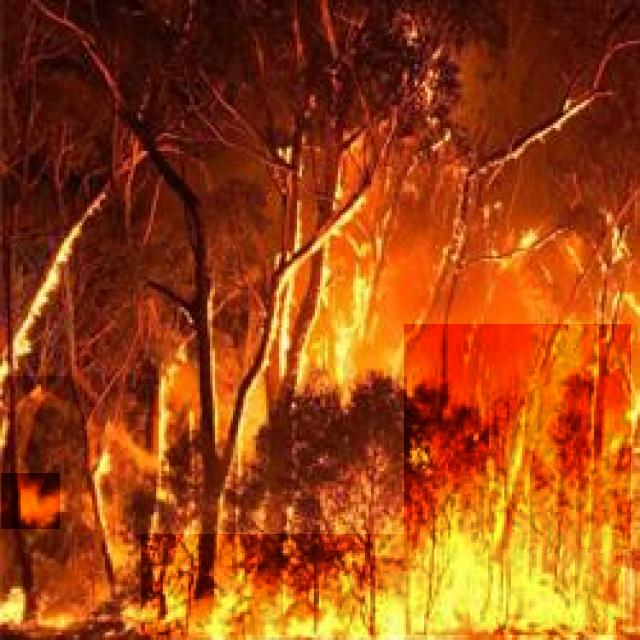Fire: (404, 324, 631, 549), (142, 534, 624, 635), (10, 236, 74, 376), (319, 269, 379, 412), (155, 387, 230, 489), (1, 473, 60, 529)
